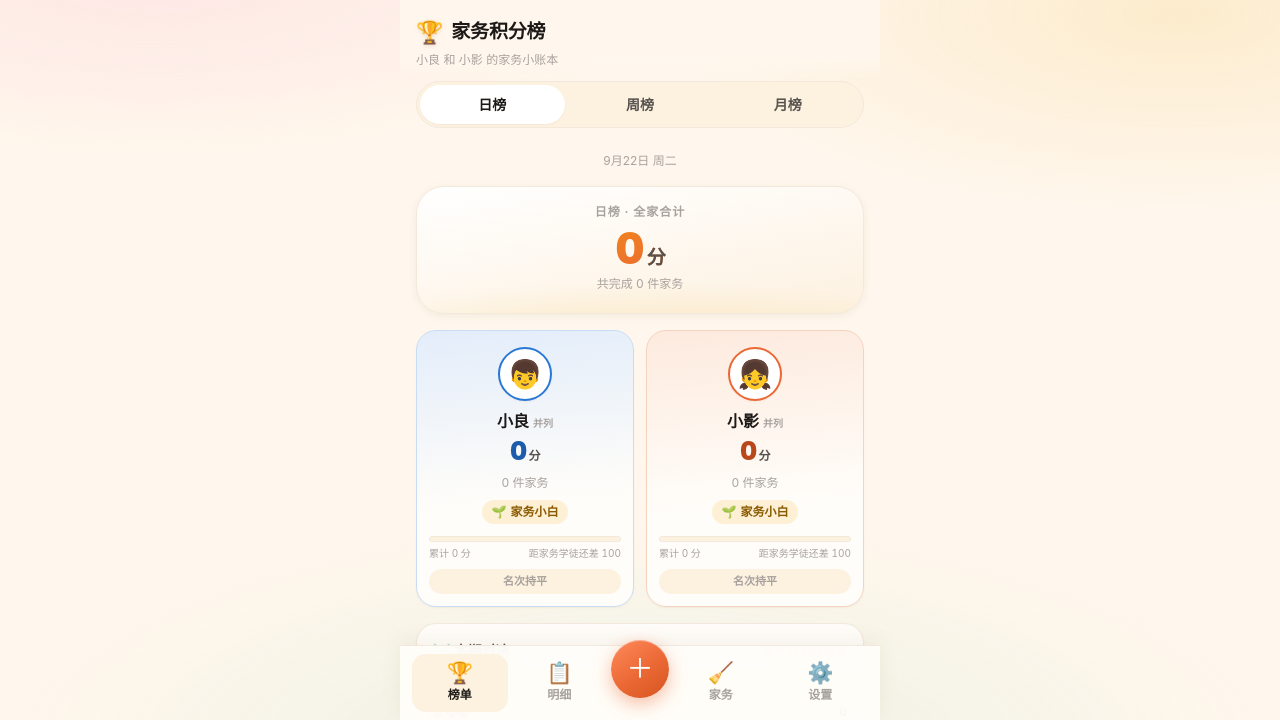
Test: 家务管理 › 列出预置家务，且预置项没有删除按钮
The image size is (1280, 720).
Click the button "🧹 家务". click: (721, 683)
box: [673, 654, 768, 712]
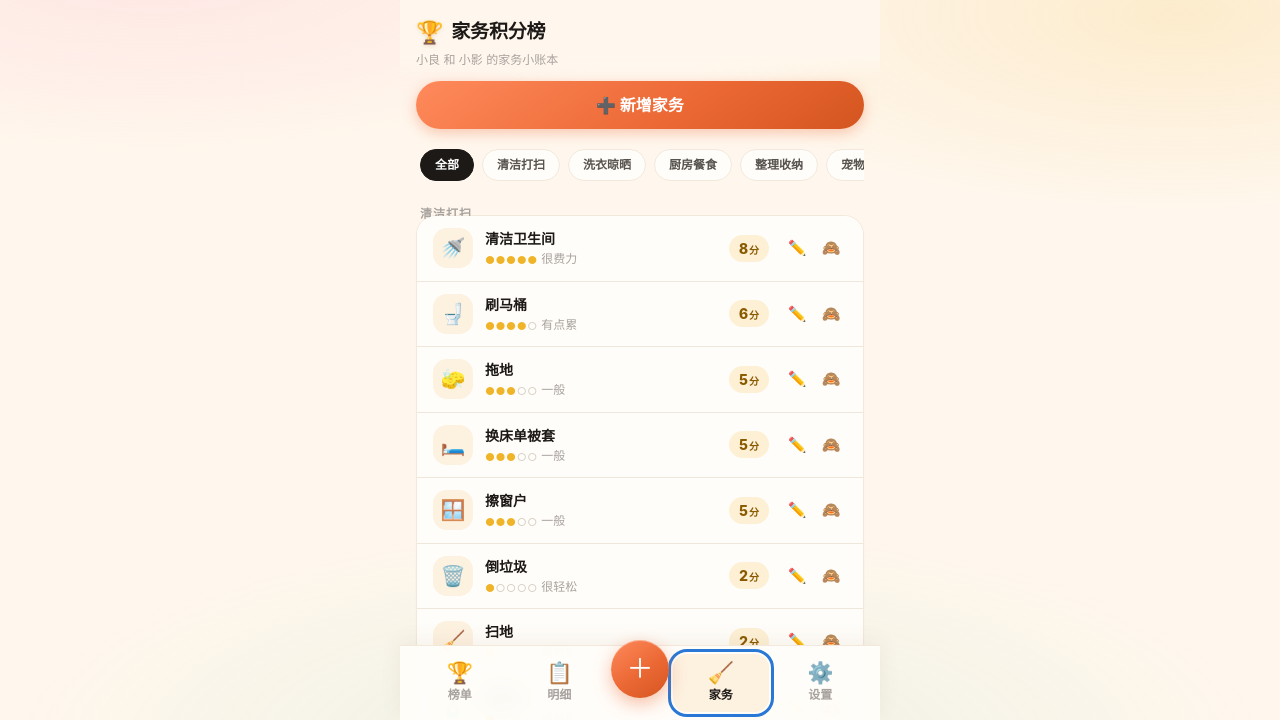
Expected: the text "扫地" is shown, [485, 623, 513, 640]
Expected: the text "拖地" is shown, [485, 361, 513, 378]
Expected: the button named "隐藏 拖地" is shown, [815, 363, 847, 395]
